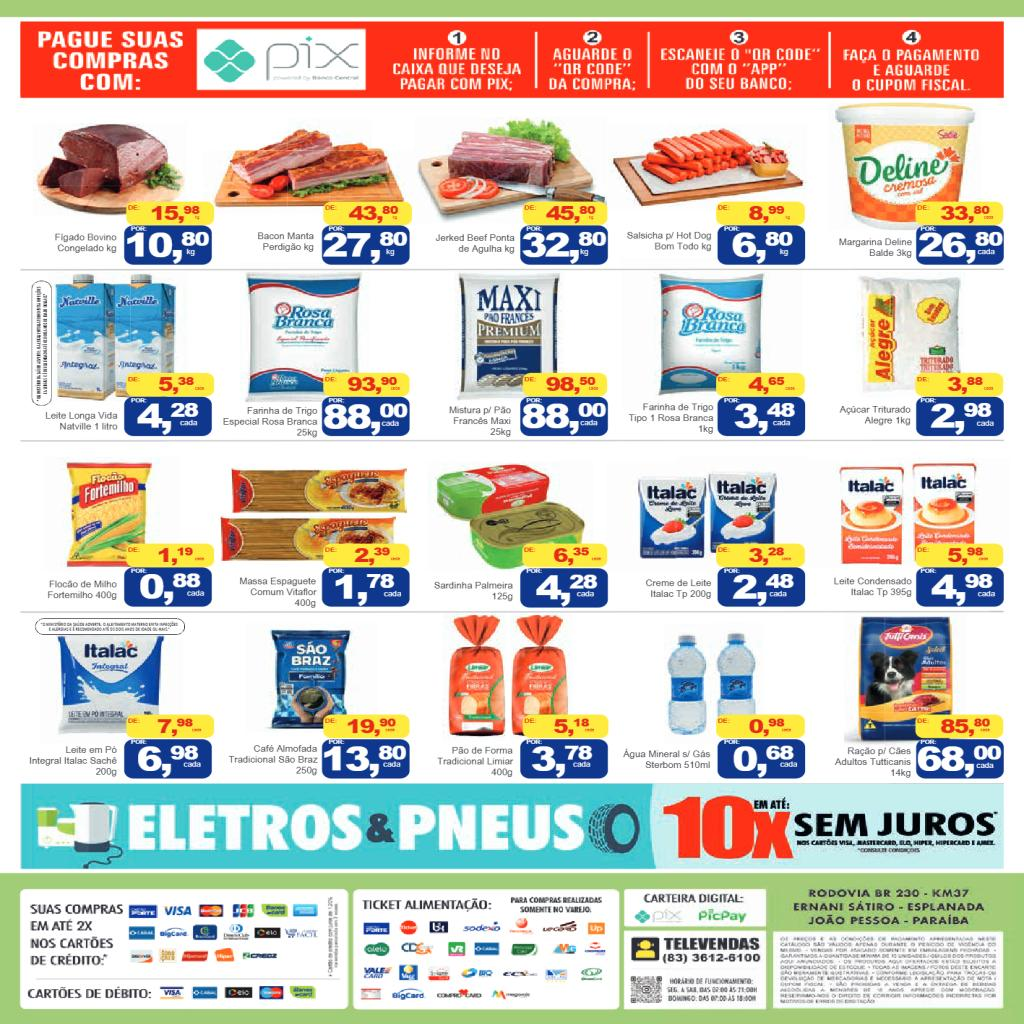price: (323, 231, 409, 265), (520, 402, 607, 435), (521, 231, 607, 264), (919, 231, 1004, 264), (322, 403, 409, 435), (323, 745, 407, 777), (126, 232, 209, 264), (916, 746, 1002, 776), (927, 401, 996, 436), (334, 572, 404, 606), (732, 402, 799, 436), (733, 744, 800, 778), (137, 572, 206, 605), (136, 744, 201, 778), (530, 744, 593, 779), (133, 402, 201, 434), (732, 573, 796, 607), (732, 231, 796, 264), (535, 574, 601, 606), (931, 574, 996, 605)
product_text: (222, 404, 319, 441), (227, 741, 320, 779), (25, 744, 121, 779), (626, 399, 714, 436), (238, 573, 318, 610), (435, 744, 515, 779), (832, 746, 913, 780), (620, 744, 714, 772), (831, 572, 914, 600), (625, 228, 714, 254), (431, 577, 516, 604), (446, 404, 513, 438), (42, 408, 121, 434), (836, 236, 914, 262), (435, 231, 517, 255), (51, 229, 119, 256), (44, 578, 118, 602), (643, 577, 714, 602), (838, 404, 912, 427), (256, 230, 316, 254)
